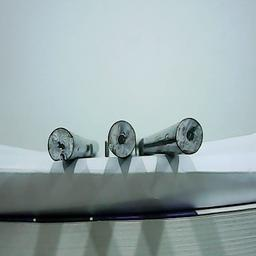pen: (107, 119, 138, 158), (174, 116, 204, 154), (48, 127, 75, 162)
